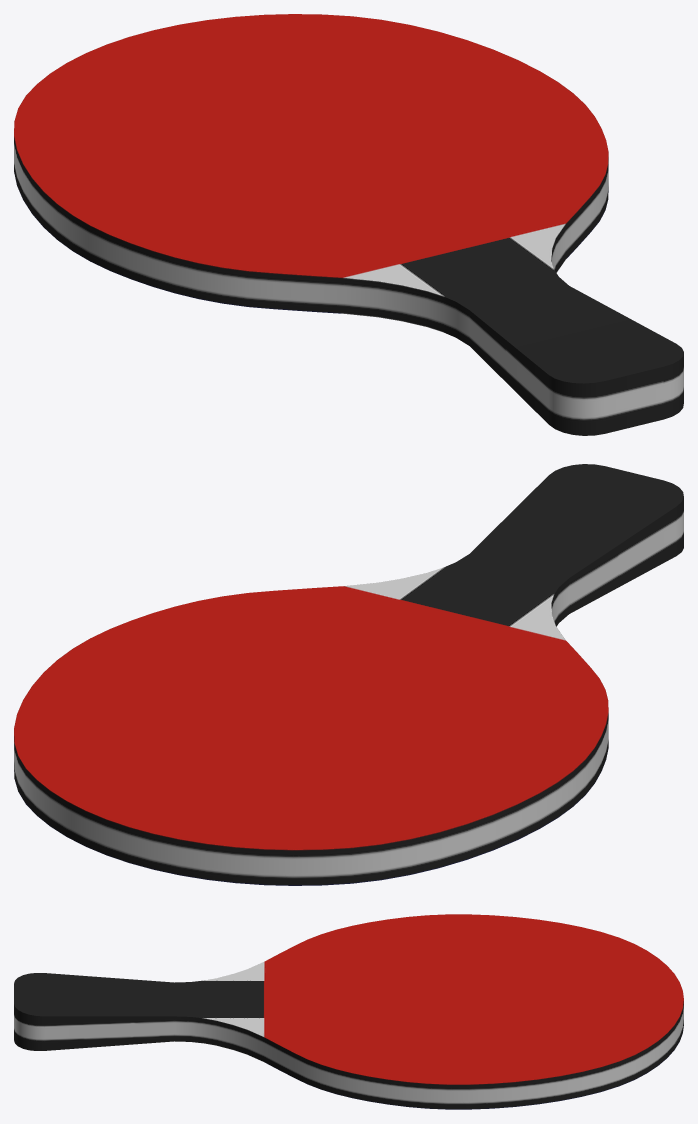
Rendered from oppRacket.glb.
3 views of the same model, one above another, from view 1: azimuth 30°, elevation 25°; view 2: azimuth 150°, elevation 25°; view 3: azimuth 270°, elevation 25° (orthographic). The views are drawn at different scales.
Parts seen in each view (by area): view 1: racket; view 2: racket; view 3: racket.
Part boxes in pixels (x1=…): racket: x1=14, y1=14, x2=683, y2=435; racket: x1=14, y1=464, x2=683, y2=885; racket: x1=14, y1=914, x2=683, y2=1109.
Size of the model in its own units: 0.1645 by 0.0166 by 0.2737.
Materials: 1 (1 with a texture image).
